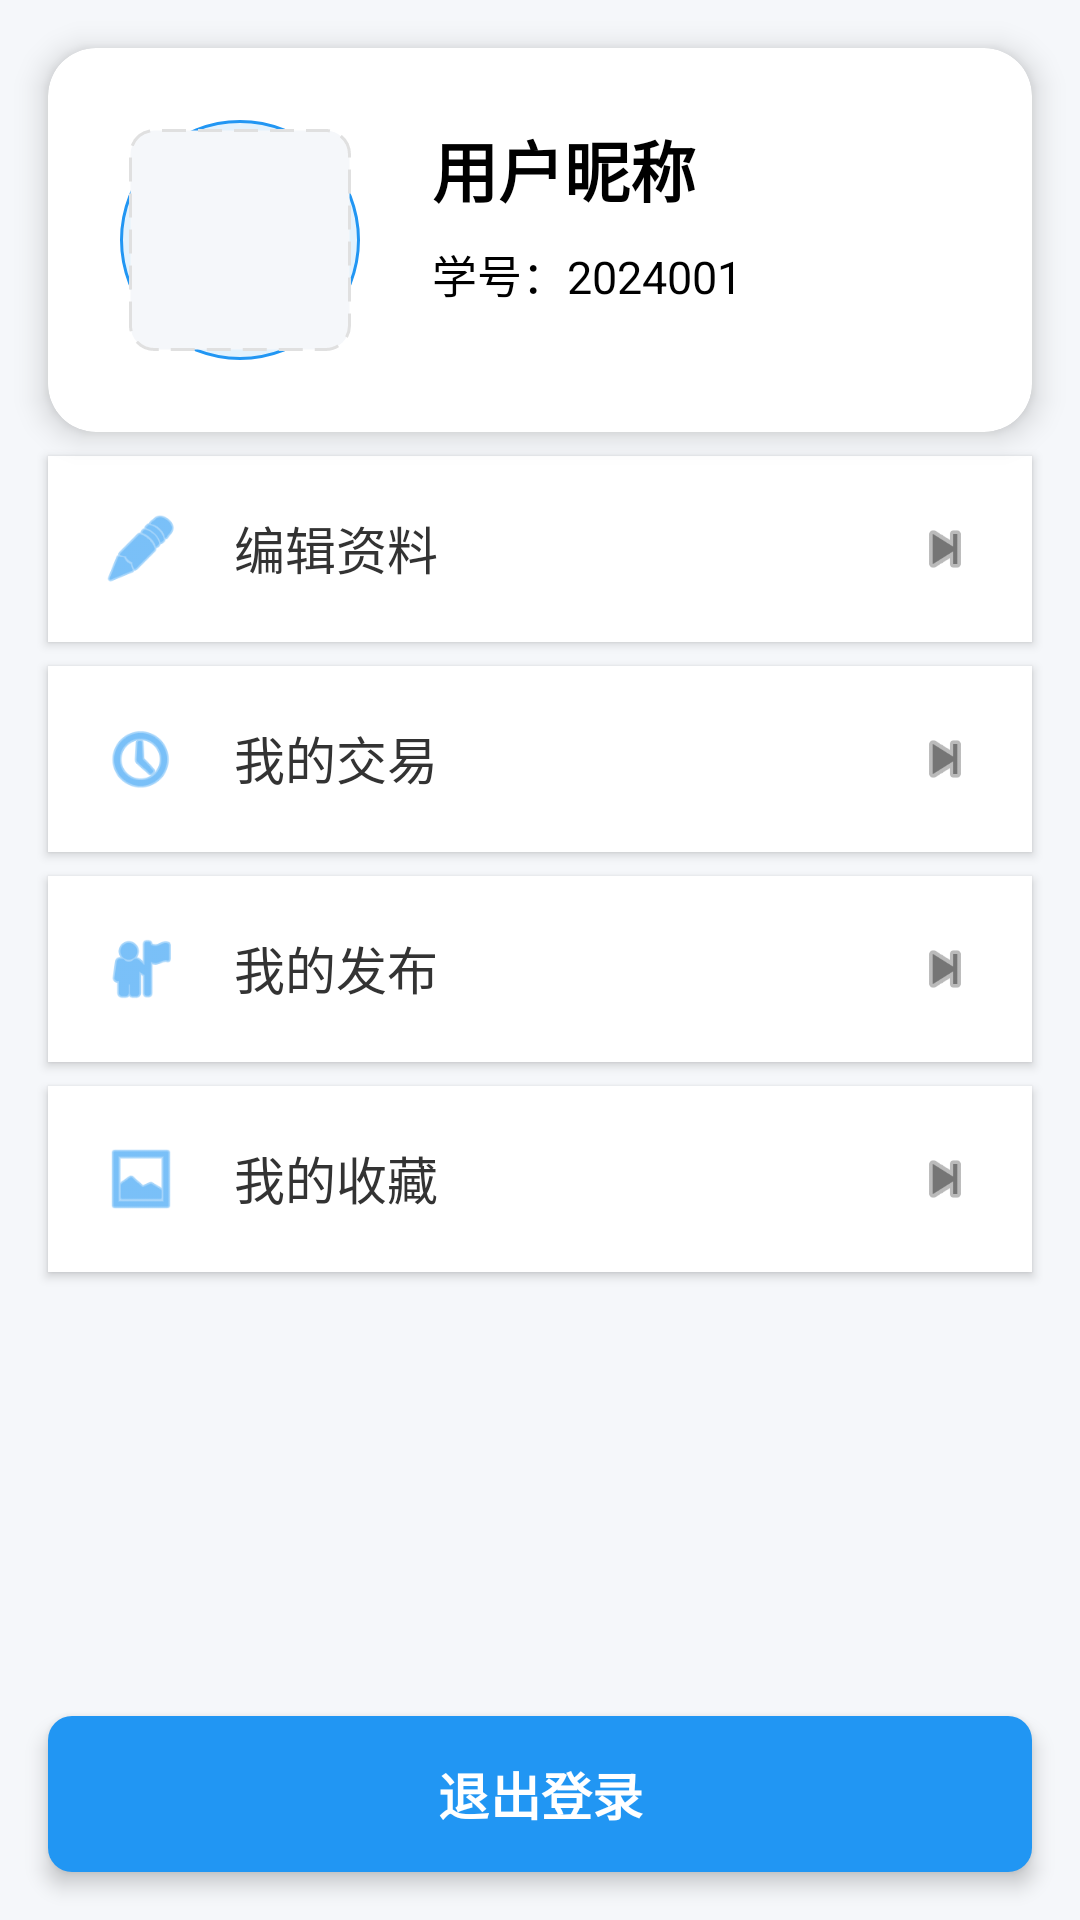

Screen size 1080px×1920px. Icon name, then its box in pixels as (x1, y1, x2, y2):
edit: (108, 515, 174, 582)
gallery: (112, 1150, 170, 1208)
myplaces: (112, 940, 171, 998)
next: (929, 530, 961, 568), (929, 740, 961, 778), (929, 950, 961, 988), (929, 1160, 961, 1198)
recent history: (112, 731, 169, 788)
